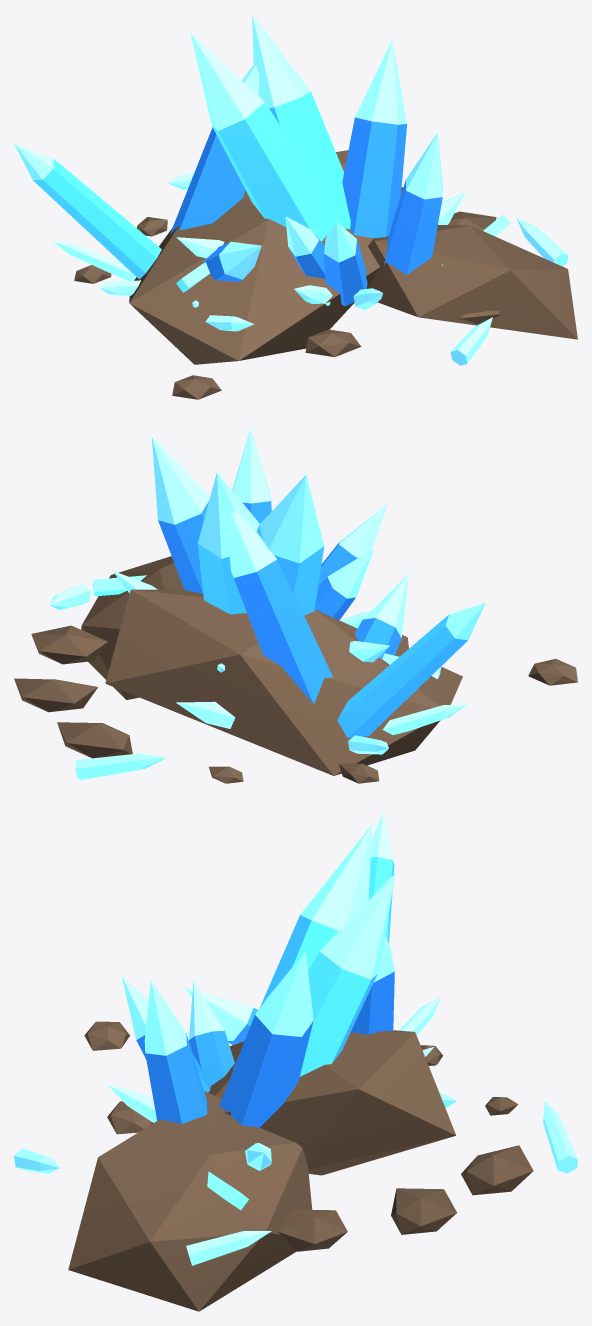
The model's file is minerai.glb.
3 renders of one model, top to bottom at view 1: azimuth 30°, elevation 25°; view 2: azimuth 150°, elevation 25°; view 3: azimuth 270°, elevation 25°, orthographic. The views are drawn at different scales.
Parts seen in each view (by area): view 1: minerai; view 2: minerai; view 3: minerai.
Boxes of the visible parts, <box> form: minerai: <box>14,14,577,399</box>; minerai: <box>14,429,577,783</box>; minerai: <box>14,812,577,1311</box>.
Bounding box in the file's own units: 1.58 × 0.9365 × 1.45.
